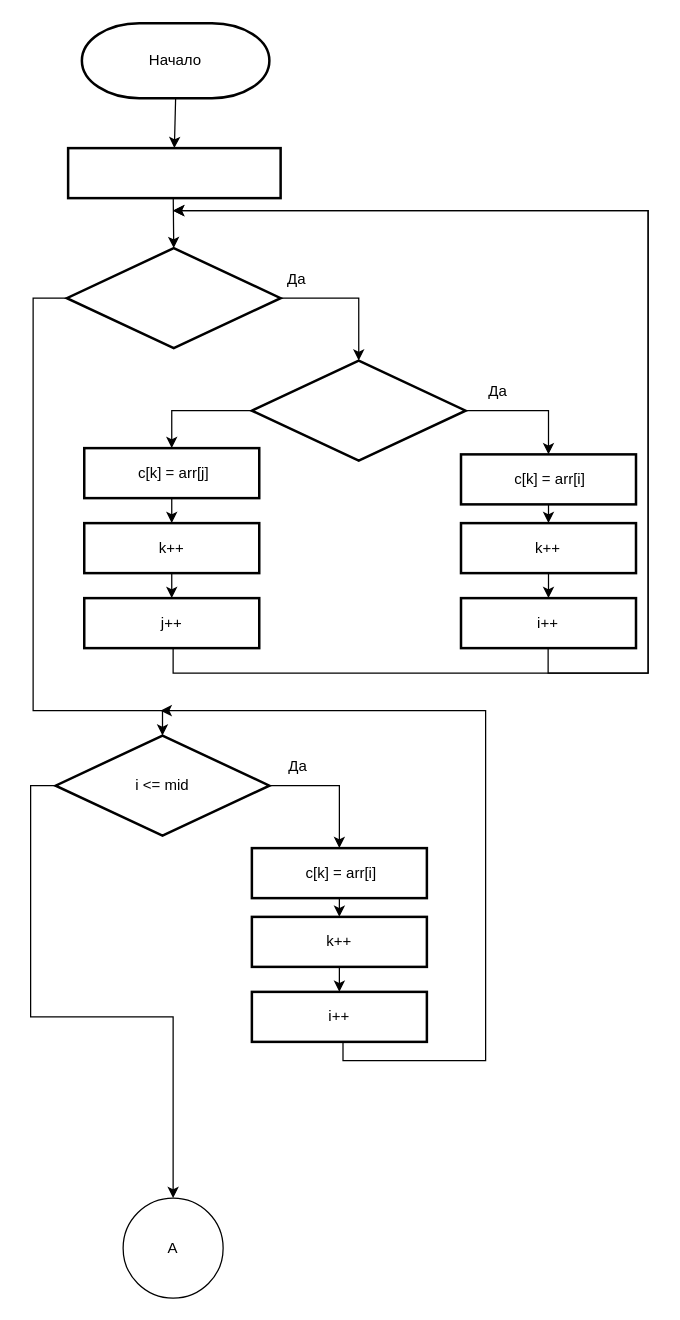
The diagram is 680 pixels wide and 1320 high, and some of its shapes have lost their labels. The centre of each missing label's shape, as x and y in pixels:
"arr, low, high, mid i = low, k = low, j = mid + 1" goes at (173,172).
"arr[i] < arr[j]" goes at (358,410).
"i <= mid && j <= high" goes at (173,297).
